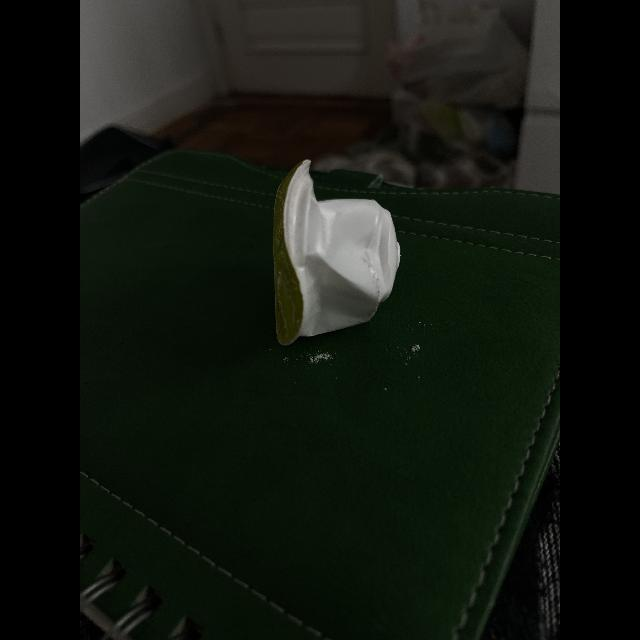damaged_capsule: (262, 150, 408, 350)
